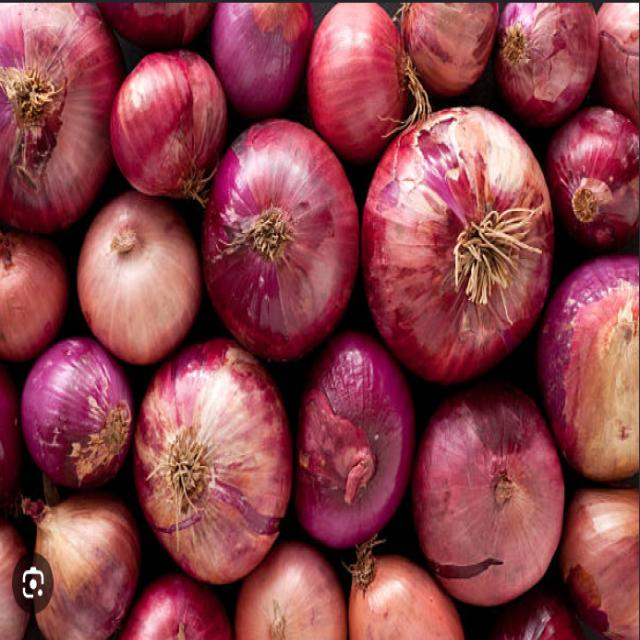mechanical_damage: (363, 108, 553, 381), (135, 339, 291, 582), (203, 121, 357, 359), (413, 382, 563, 603), (295, 333, 415, 547)
